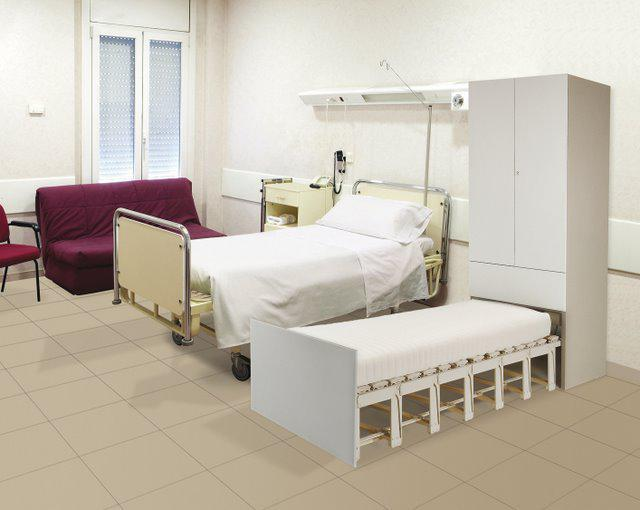Armario: (467, 88, 574, 304)
Cama: (250, 298, 554, 434), (121, 198, 429, 330)
